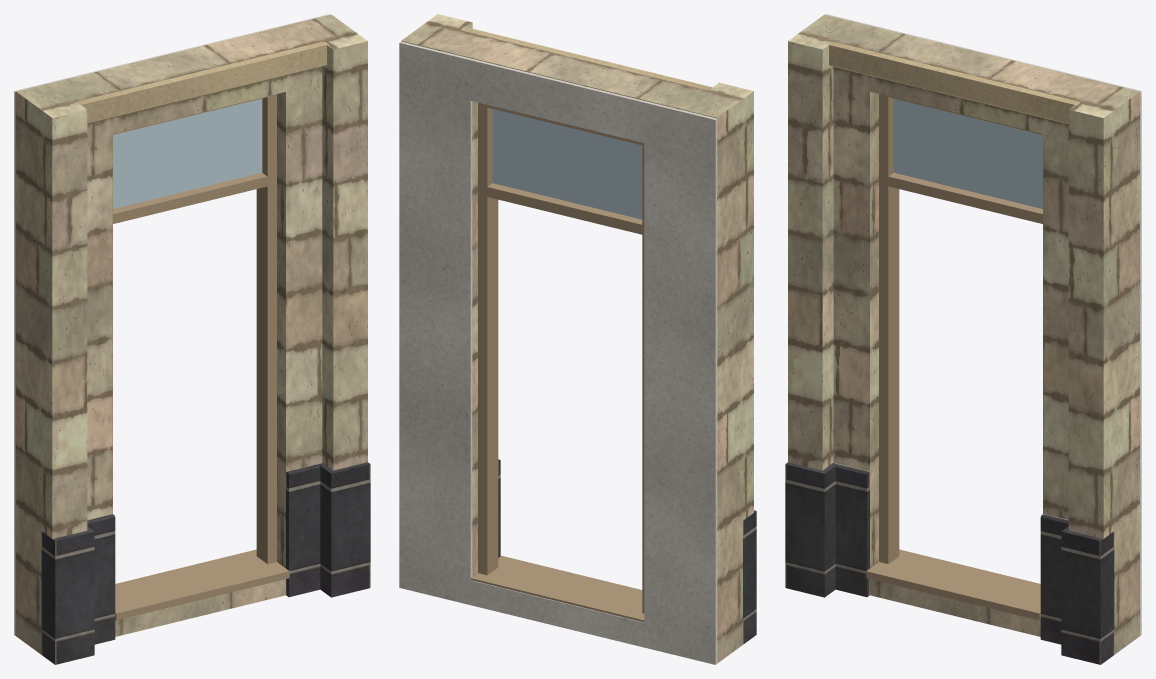
File: f_g_door.glb
The picture shows the model from 3 angles, left to right: view 1: azimuth 30°, elevation 25°; view 2: azimuth 150°, elevation 25°; view 3: azimuth 330°, elevation 25°; orthographic projection.
Visible parts, largest first — view 1: f_g_door_terra, f_g_door_plinth, f_g_door_bronze, f_g_door_glass, f_g_door_terra2, f_g_door_plaster; view 2: f_g_door_plaster, f_g_door_terra, f_g_door_bronze, f_g_door_glass, f_g_door_plinth, f_g_door_terra2; view 3: f_g_door_terra, f_g_door_plinth, f_g_door_bronze, f_g_door_glass, f_g_door_terra2, f_g_door_plaster.
Boxes of the visible parts, x1,y1,x2,y2 form: f_g_door_terra: [16, 14, 367, 654]; f_g_door_plinth: [41, 462, 370, 664]; f_g_door_bronze: [112, 94, 289, 620]; f_g_door_glass: [113, 98, 262, 208]; f_g_door_terra2: [76, 41, 326, 123]; f_g_door_plaster: [14, 14, 330, 635]; f_g_door_plaster: [399, 41, 717, 664]; f_g_door_terra: [401, 14, 753, 663]; f_g_door_bronze: [471, 102, 644, 622]; f_g_door_glass: [492, 109, 642, 219]; f_g_door_plinth: [498, 459, 756, 644]; f_g_door_terra2: [462, 27, 711, 90]; f_g_door_terra: [788, 14, 1139, 654]; f_g_door_plinth: [785, 462, 1114, 664]; f_g_door_bronze: [866, 94, 1043, 620]; f_g_door_glass: [893, 98, 1042, 208]; f_g_door_terra2: [829, 41, 1079, 123]; f_g_door_plaster: [825, 14, 1141, 635].
Size of the model in its own units: 2 by 3.3 by 0.45.
6 materials, 4 textured.
